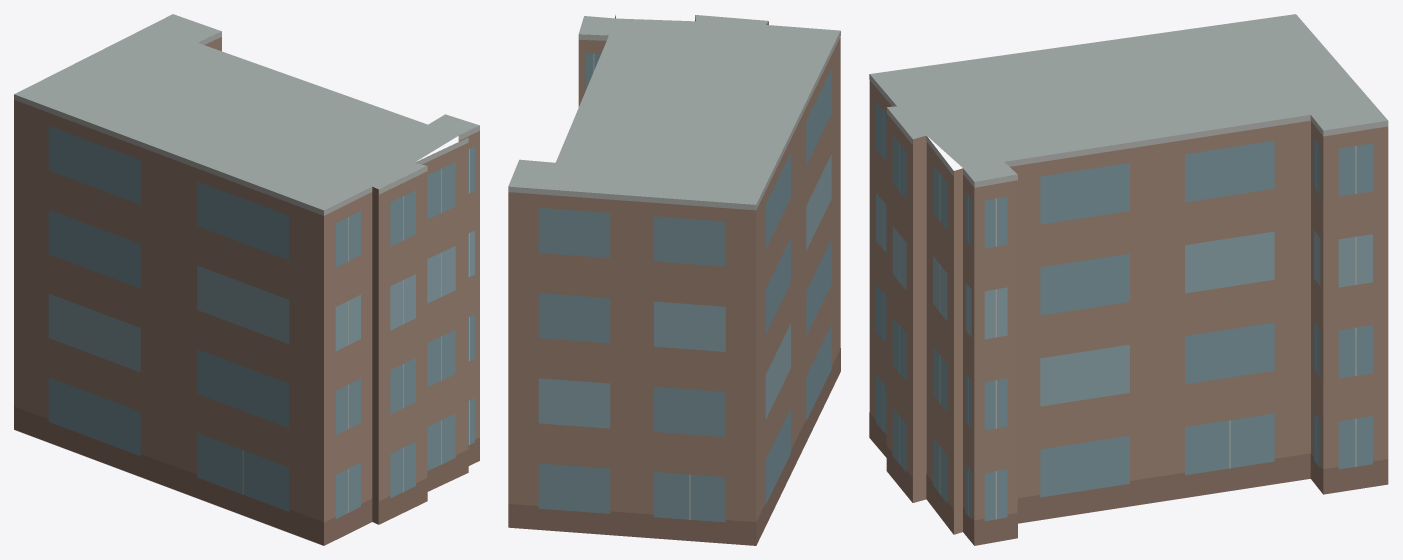
File: survey-upis-32620215.glb
3 views of the same model, side by side, from view 1: azimuth 30°, elevation 25°; view 2: azimuth 150°, elevation 25°; view 3: azimuth 270°, elevation 25° (orthographic). The views are drawn at different scales.
Parts seen in each view (by area): view 1: survey-upis-32620215.tmp; view 2: survey-upis-32620215.tmp; view 3: survey-upis-32620215.tmp.
Part boxes in pixels (x1,y1,x2,y2): survey-upis-32620215.tmp: (14, 14, 479, 545); survey-upis-32620215.tmp: (508, 15, 840, 545); survey-upis-32620215.tmp: (869, 14, 1388, 545).
Bounding box in the file's own units: 15.22 × 15.35 × 19.85.
